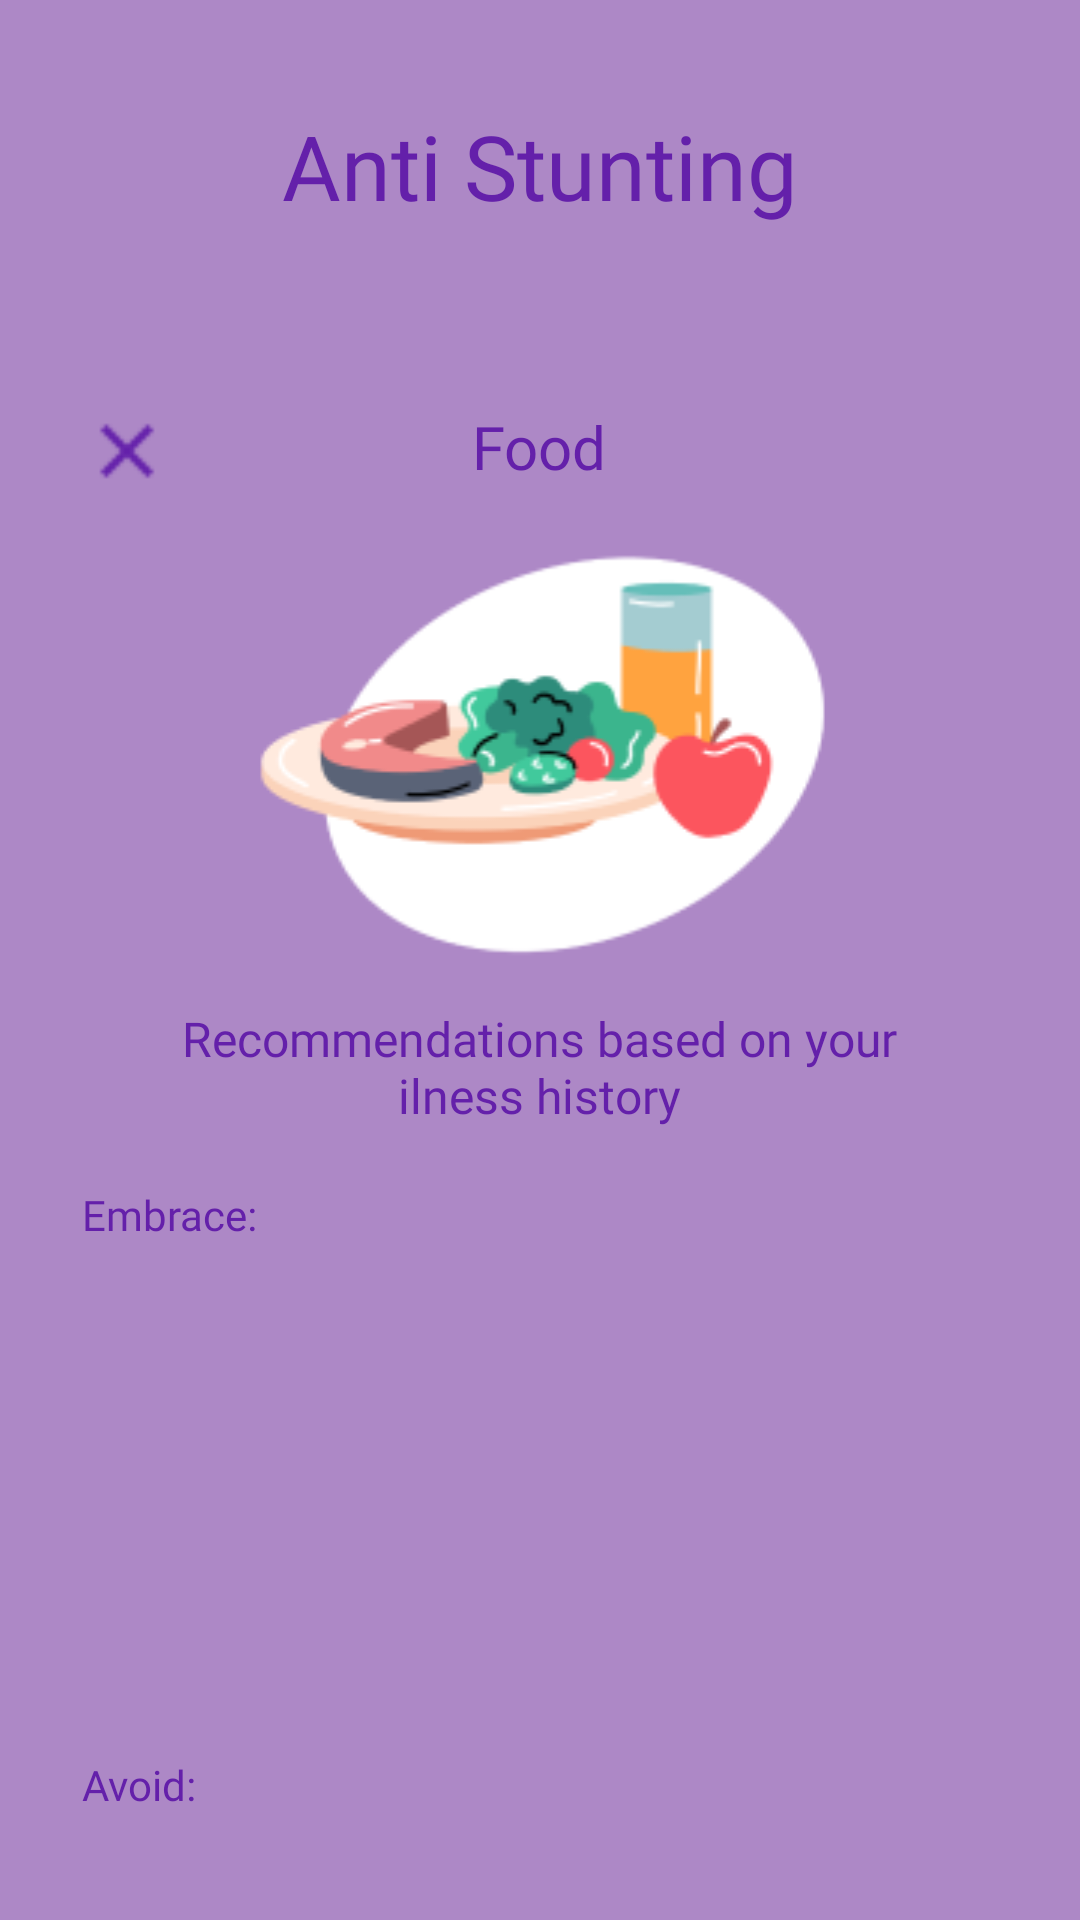

Screen size 1080x1920. Icon name, then its center in pixels as [x,y]:
close: [127,451]
